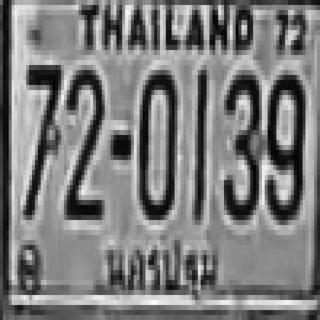N00: (137, 65, 175, 215)
N01: (192, 70, 207, 220)
N02: (64, 65, 102, 215)
N03: (221, 68, 259, 218)
N07: (22, 60, 60, 215)
N09: (265, 70, 303, 220)
P28: (101, 230, 226, 306)
